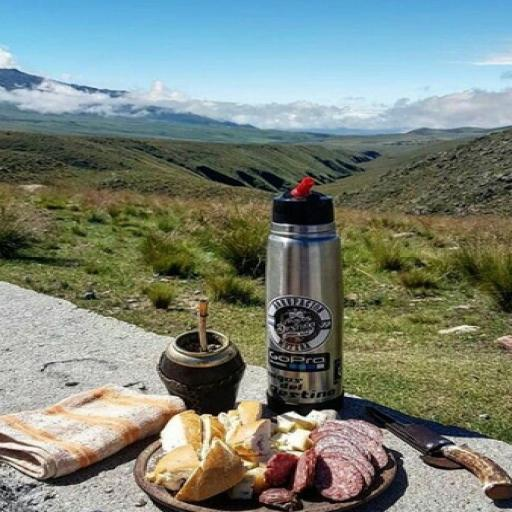mate: (158, 331, 245, 415)
termo: (266, 178, 343, 413)
